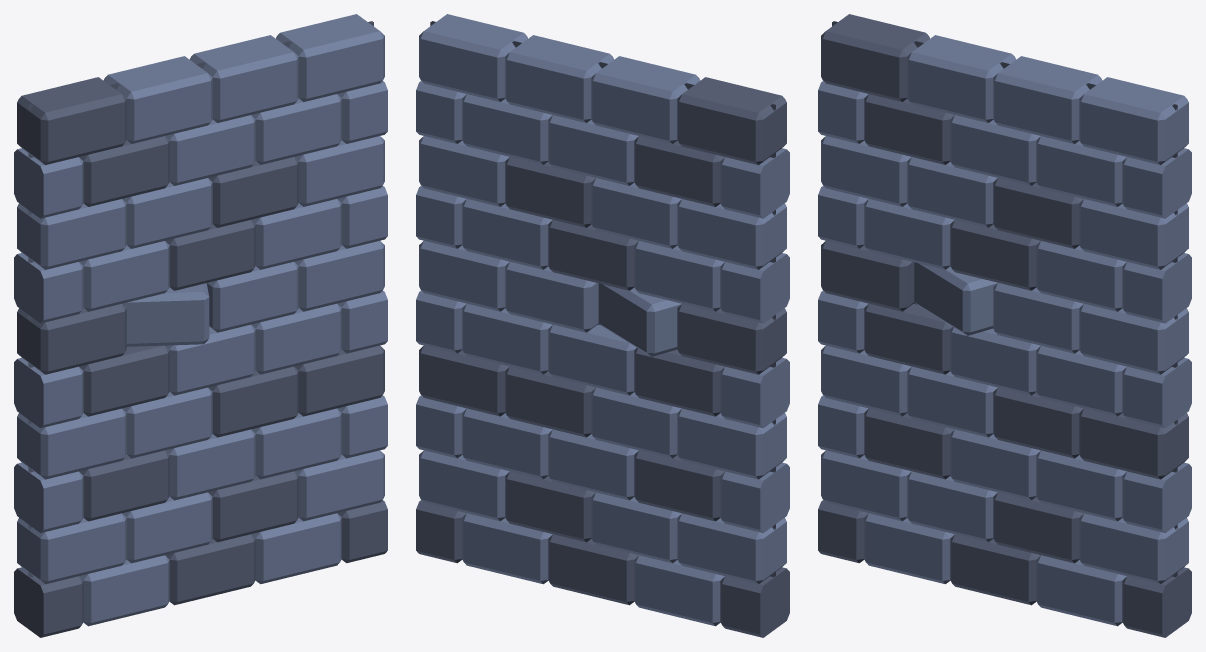
Rendered from brick-wall-002.glb.
The picture shows the model from 3 angles, left to right: view 1: azimuth 30°, elevation 25°; view 2: azimuth 150°, elevation 25°; view 3: azimuth 330°, elevation 25°; orthographic projection.
Visible parts, largest first — view 1: brick wall.002; view 2: brick wall.002; view 3: brick wall.002.
Boxes of the visible parts, <box> form: brick wall.002: <box>14,14,387,637</box>; brick wall.002: <box>416,14,789,637</box>; brick wall.002: <box>818,14,1191,637</box>.
Bounding box in the file's own units: 2 × 2.91 × 0.4598.
